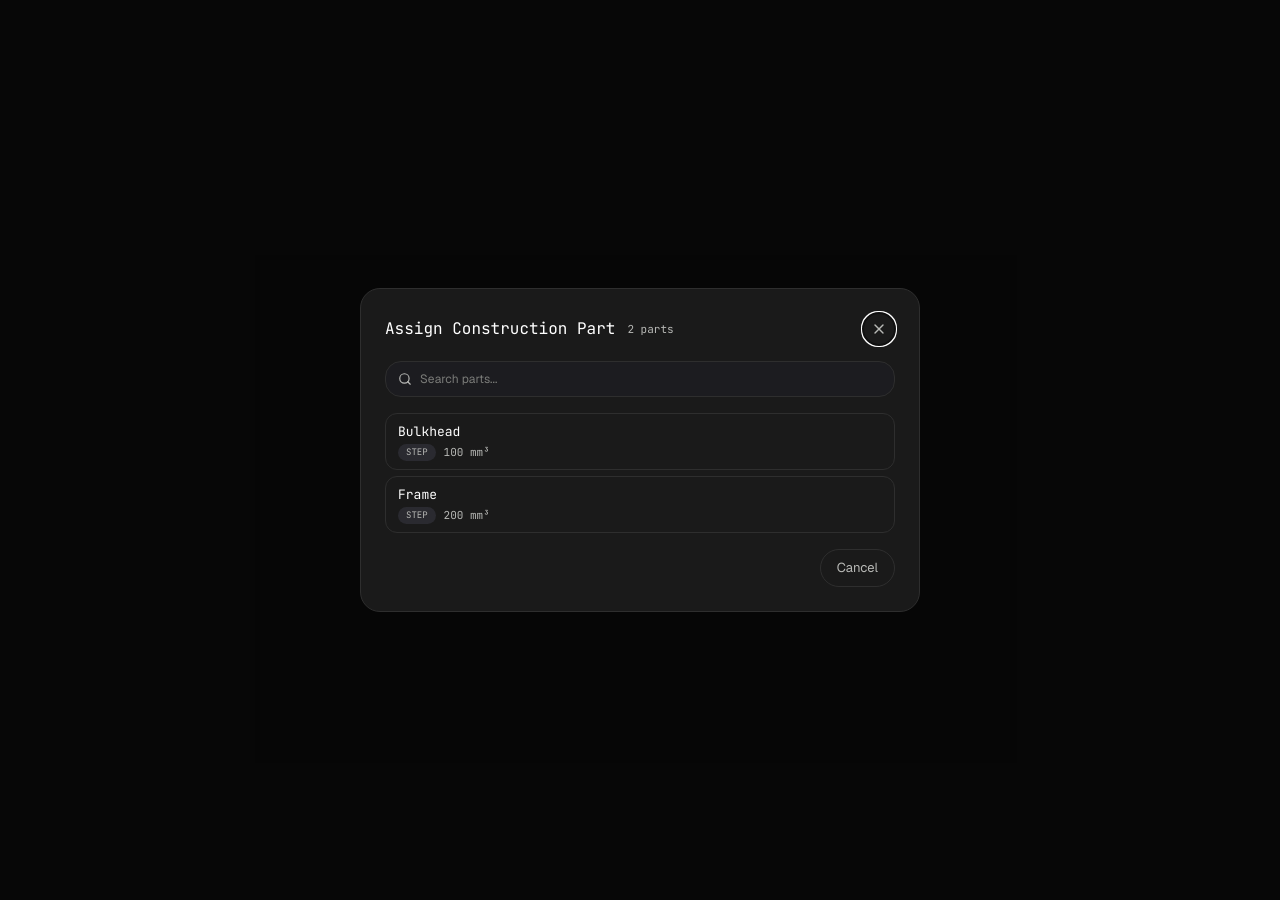
Scenario: ConstructionPartPickerDialog › filters by search
The width and height of the screenshot is (1280, 900).
Type "bulk" into the field with placeholder "Search parts...". click: (651, 379)
box: left=420, top=370, right=882, bottom=388
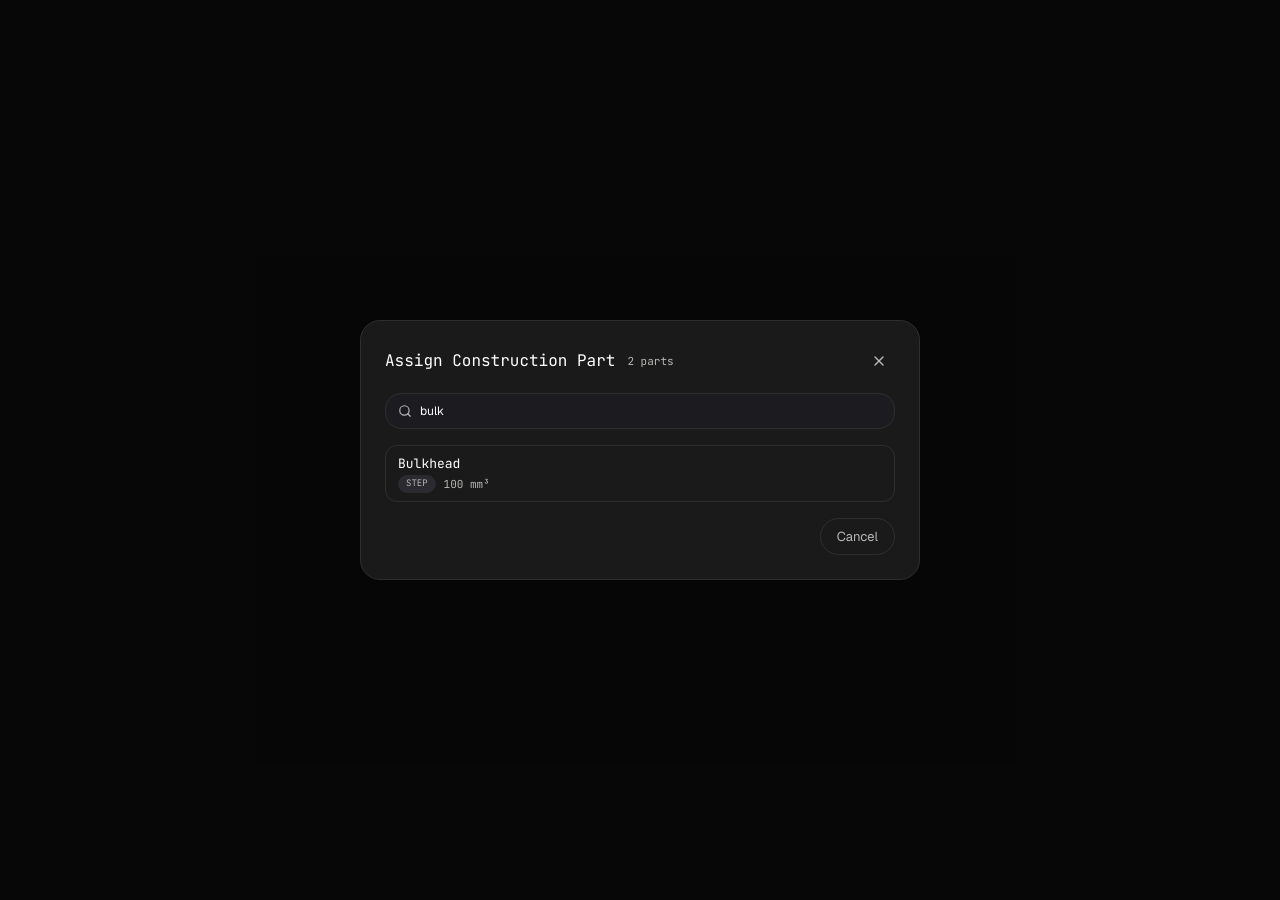
Expected: the text "Bulkhead" is shown, left=398, top=454, right=460, bottom=473
Expected: the button "Frame" is gone
